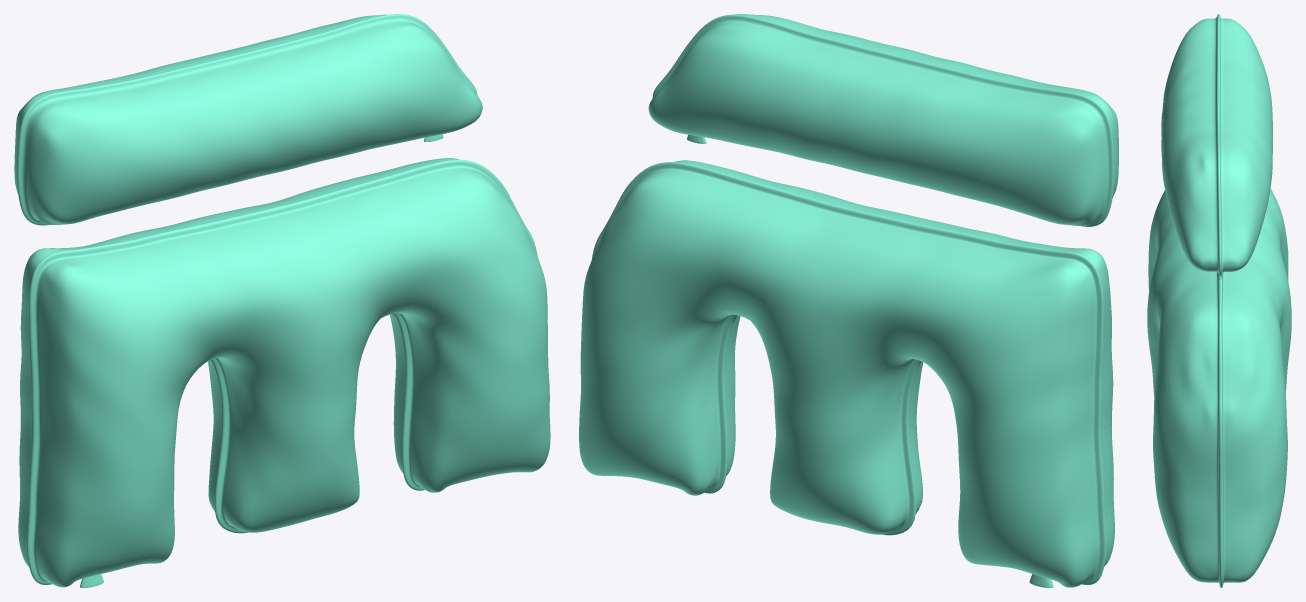
Rendered from Inflatable_letter_1_4.glb.
The picture shows the model from 3 angles, left to right: view 1: azimuth 30°, elevation 25°; view 2: azimuth 150°, elevation 25°; view 3: azimuth 270°, elevation 25°; orthographic projection. The views are drawn at different scales.
Parts seen in each view (by area): view 1: Inflatable_letter; view 2: Inflatable_letter; view 3: Inflatable_letter.
Boxes of the visible parts, left/top/right/bottom form: Inflatable_letter: left=14, top=14, right=550, bottom=587; Inflatable_letter: left=579, top=14, right=1118, bottom=587; Inflatable_letter: left=1147, top=14, right=1291, bottom=587.
Bounding box in the file's own units: 207 × 188 × 62.08.
